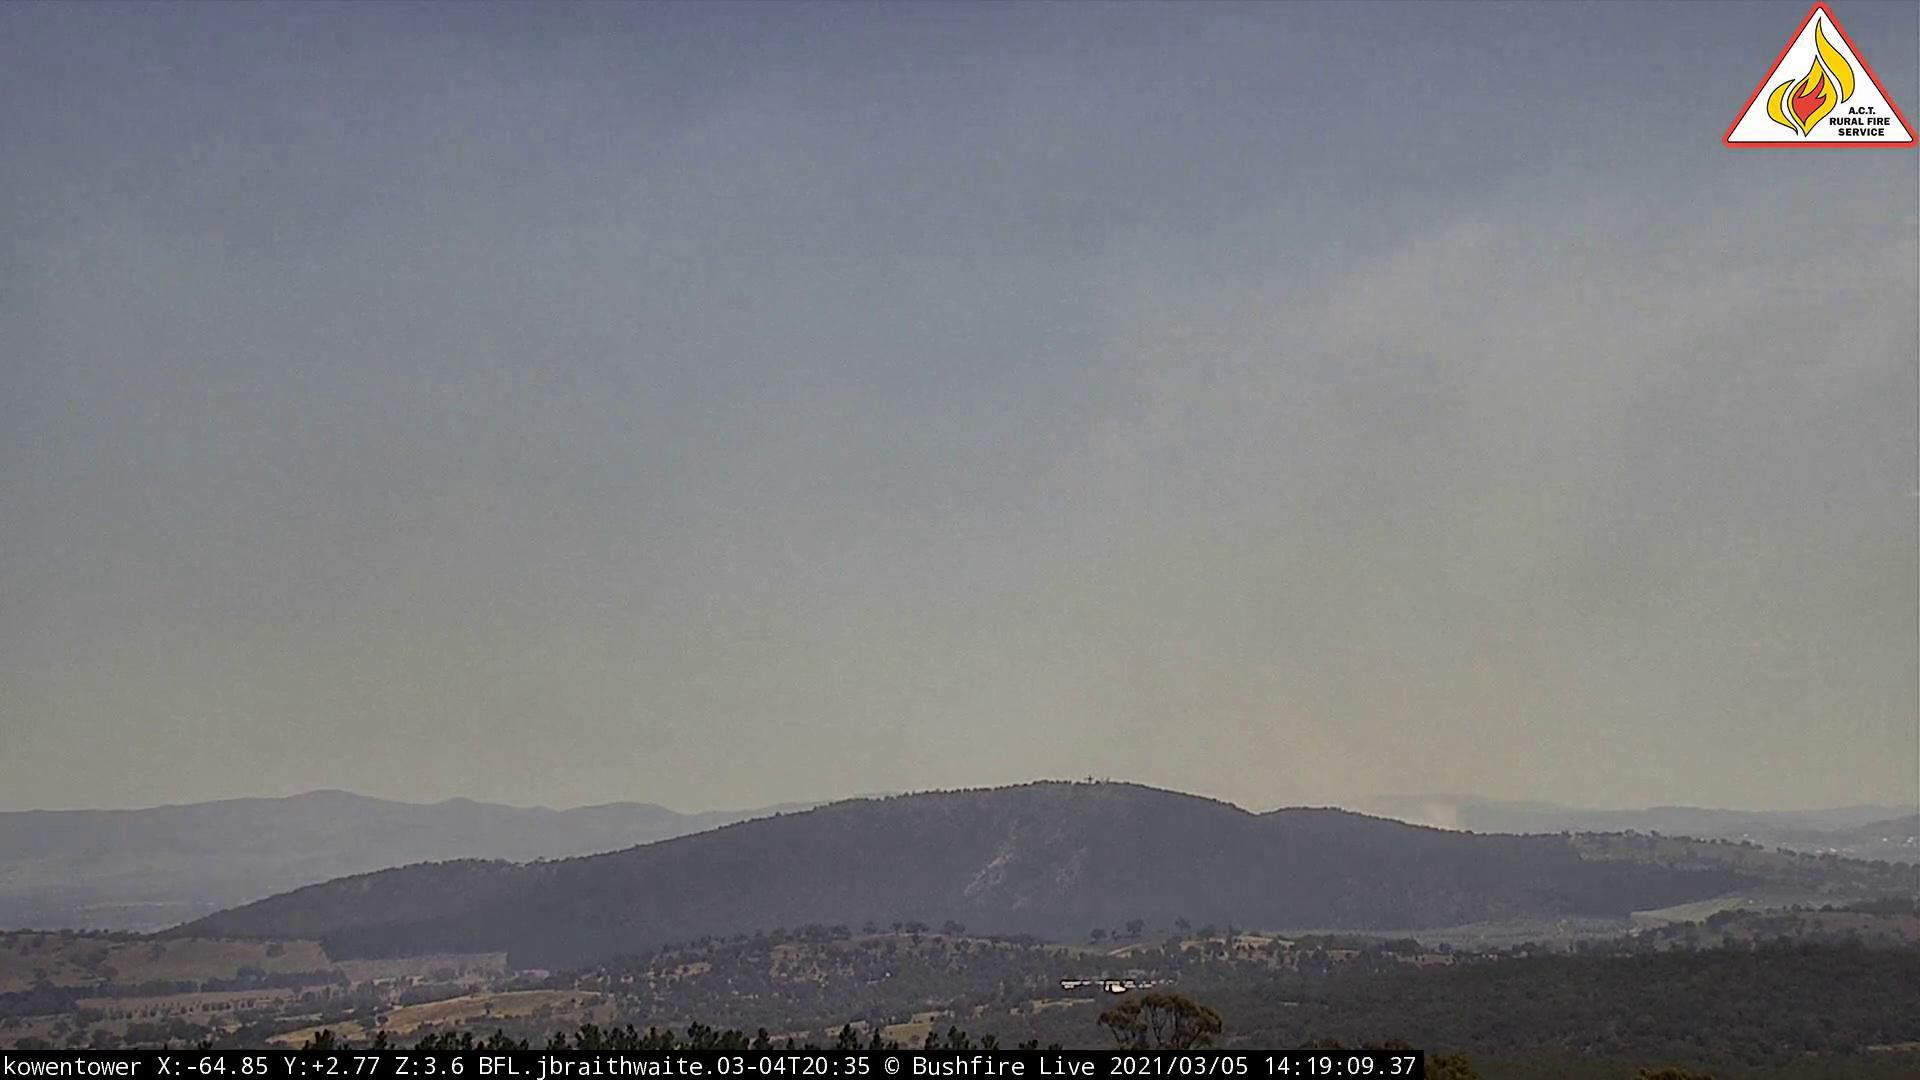instance_salient_object: (1215, 644, 1534, 843)
